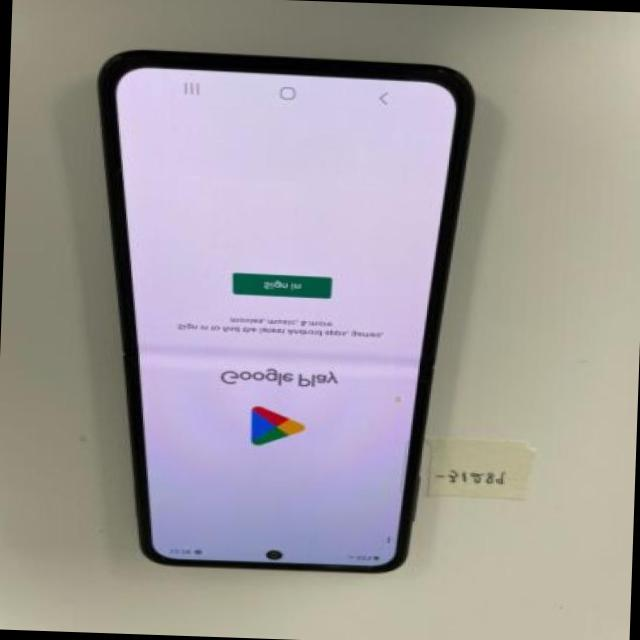dead pixel: (364, 380, 425, 412)
